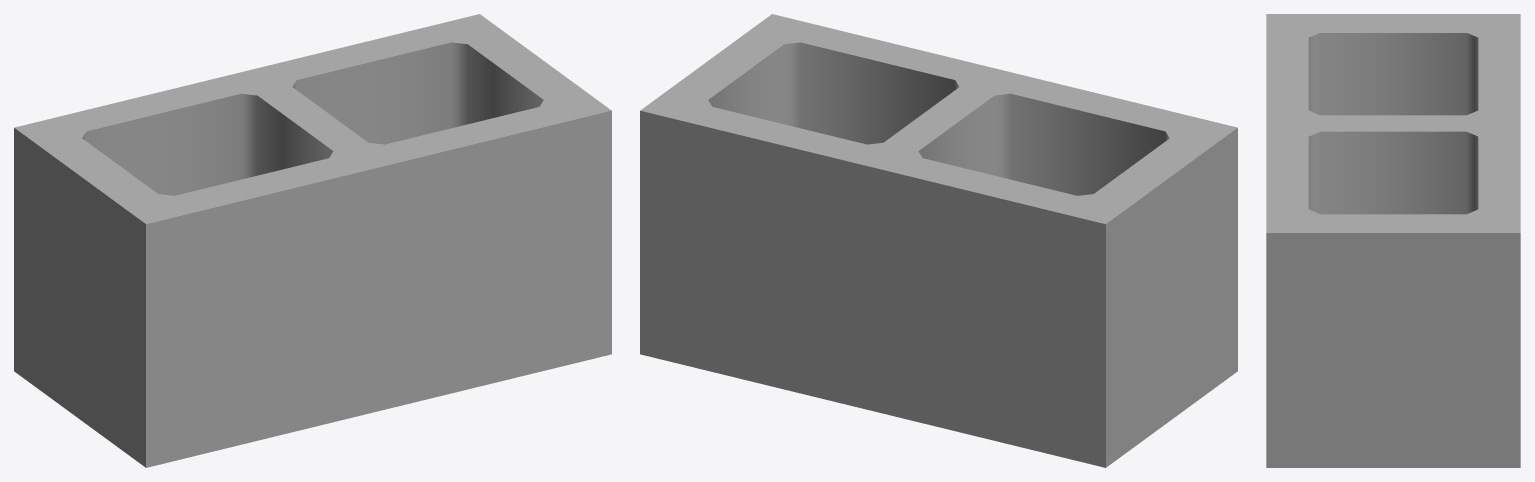
3 renders of one model, left to right at view 1: azimuth 30°, elevation 25°; view 2: azimuth 150°, elevation 25°; view 3: azimuth 270°, elevation 25°, orthographic. The views are drawn at different scales.
Parts seen in each view (by area): view 1: CMU-regular; view 2: CMU-regular; view 3: CMU-regular.
Part boxes in pixels (box(x1,y1,x2,y2)): CMU-regular: box(14, 14, 611, 467); CMU-regular: box(640, 14, 1237, 467); CMU-regular: box(1266, 14, 1520, 467).
Size of what is drawn, in the model's own units: 0.3999 by 0.2 by 0.1964.
Materials: 1 (1 with a texture image).
